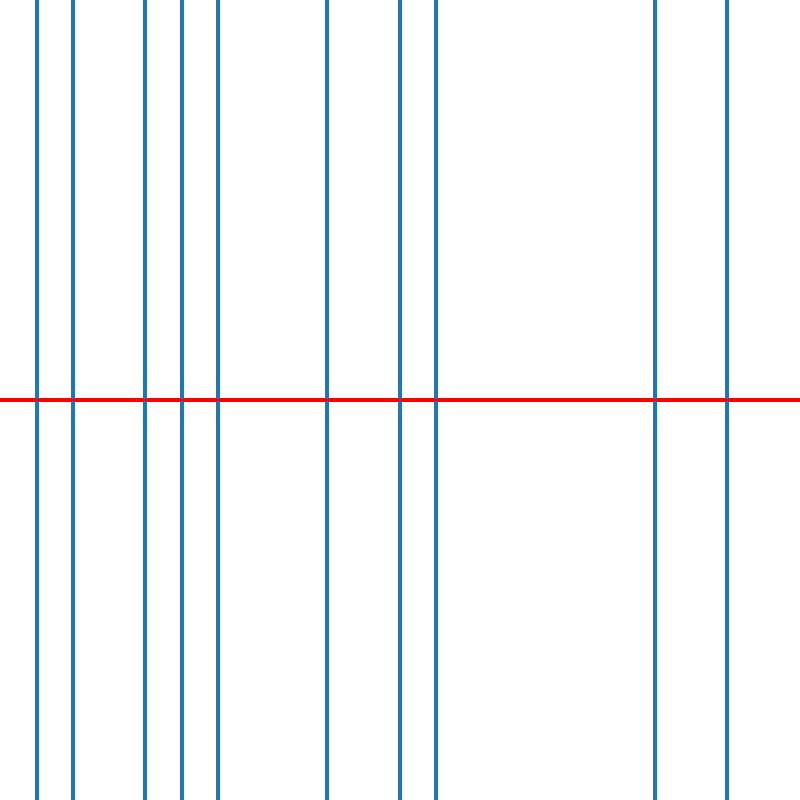root: (650, 396, 658, 404), (432, 396, 440, 404), (141, 396, 149, 404), (32, 396, 40, 404), (323, 396, 330, 404), (69, 396, 76, 404), (723, 396, 730, 404), (396, 396, 403, 404), (178, 396, 185, 404), (214, 396, 221, 404)
